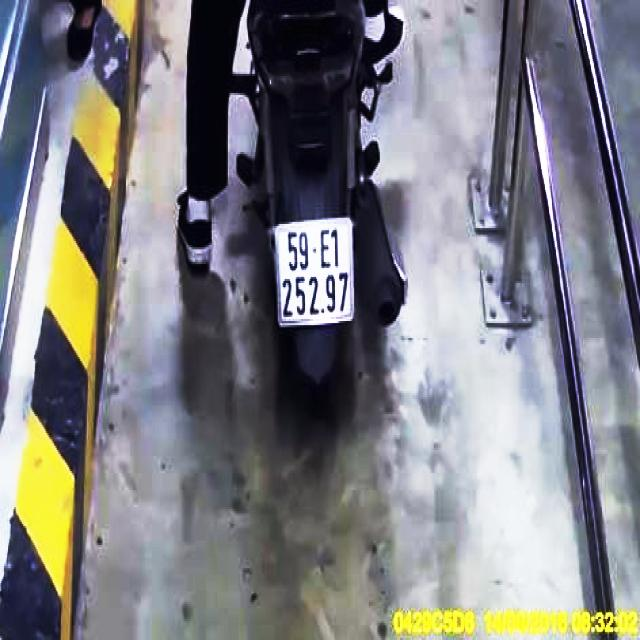license_plate: (277, 223, 355, 325)
